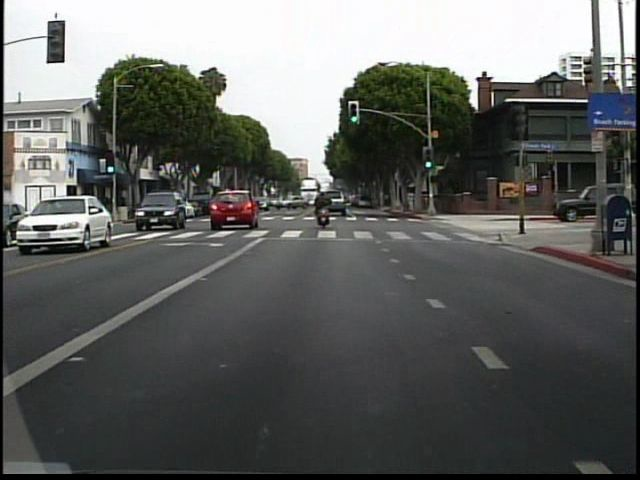person: (312, 185, 340, 232)
